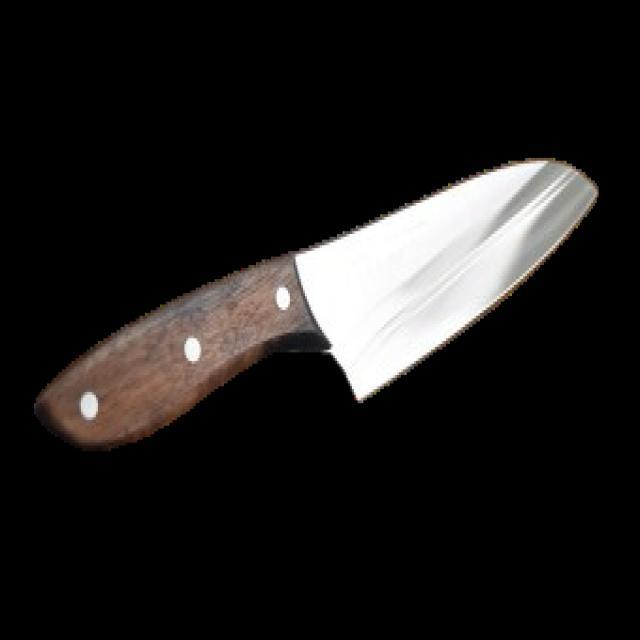knife: (26, 155, 602, 448)
